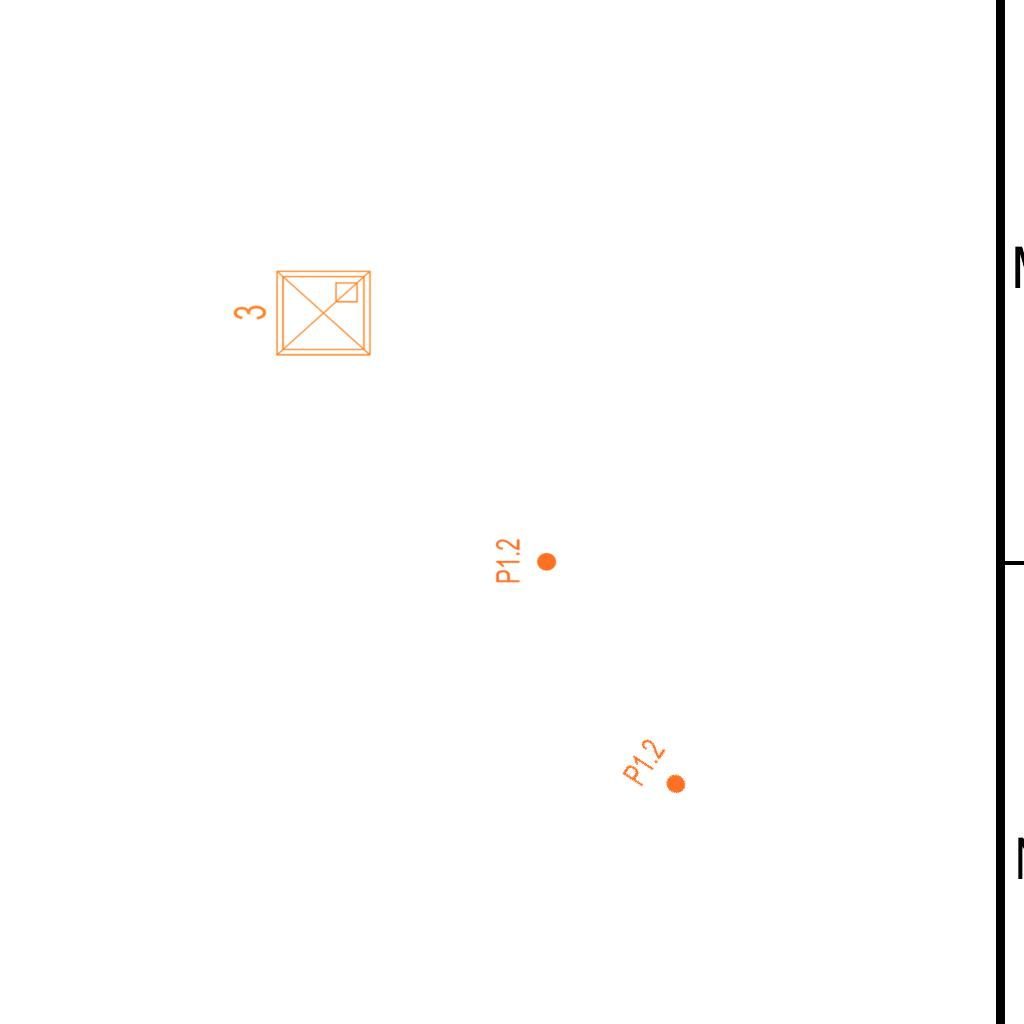Downlight_LED_Einbauleuchten_Flur: (619, 735, 699, 809), (494, 538, 558, 584)
Einbaudownlights_LED_Konferenzraeume: (228, 263, 378, 367)
